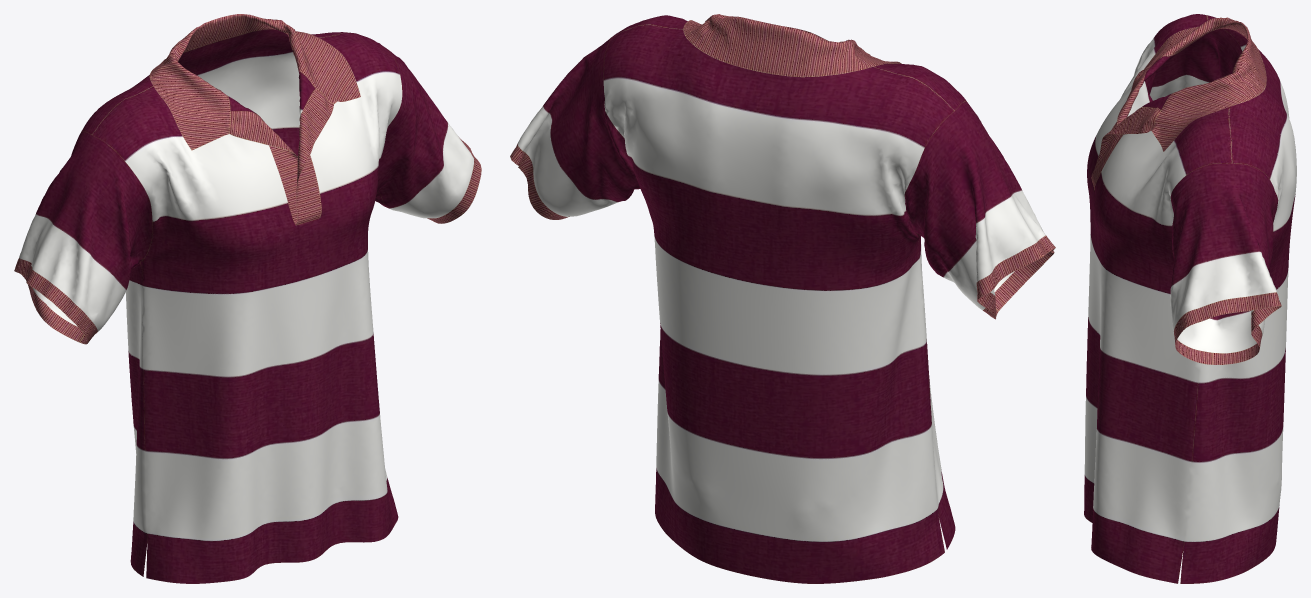
Rendered from Tshirt3.glb.
3 views of the same model, side by side, from view 1: azimuth 30°, elevation 25°; view 2: azimuth 150°, elevation 25°; view 3: azimuth 270°, elevation 25° (orthographic). The views are drawn at different scales.
Visible parts, largest first — view 1: Tshirt; view 2: Tshirt; view 3: Tshirt.
Boxes of the visible parts, box(x1,y1,x2,y2) form: Tshirt: box(14, 14, 481, 583); Tshirt: box(510, 14, 1055, 583); Tshirt: box(1084, 14, 1296, 583).
Size of the model in its own units: 0.6777 by 0.7129 by 0.2765.
1 material, 1 textured.
